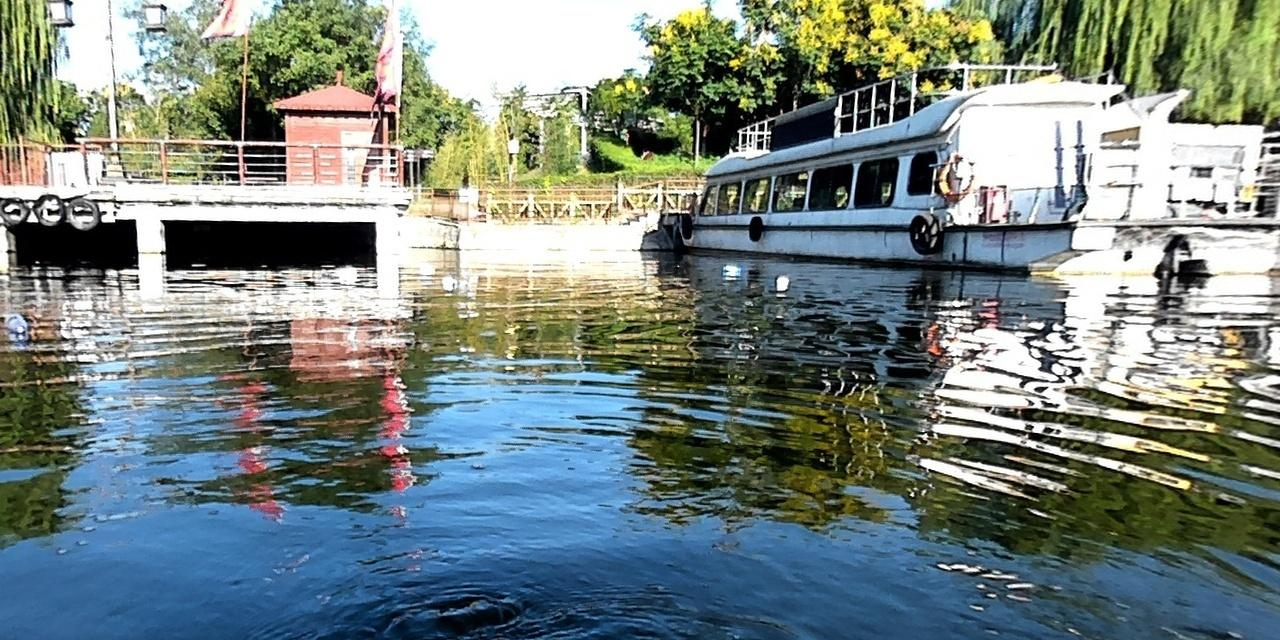bottle: (2, 309, 30, 337), (718, 264, 745, 273)
